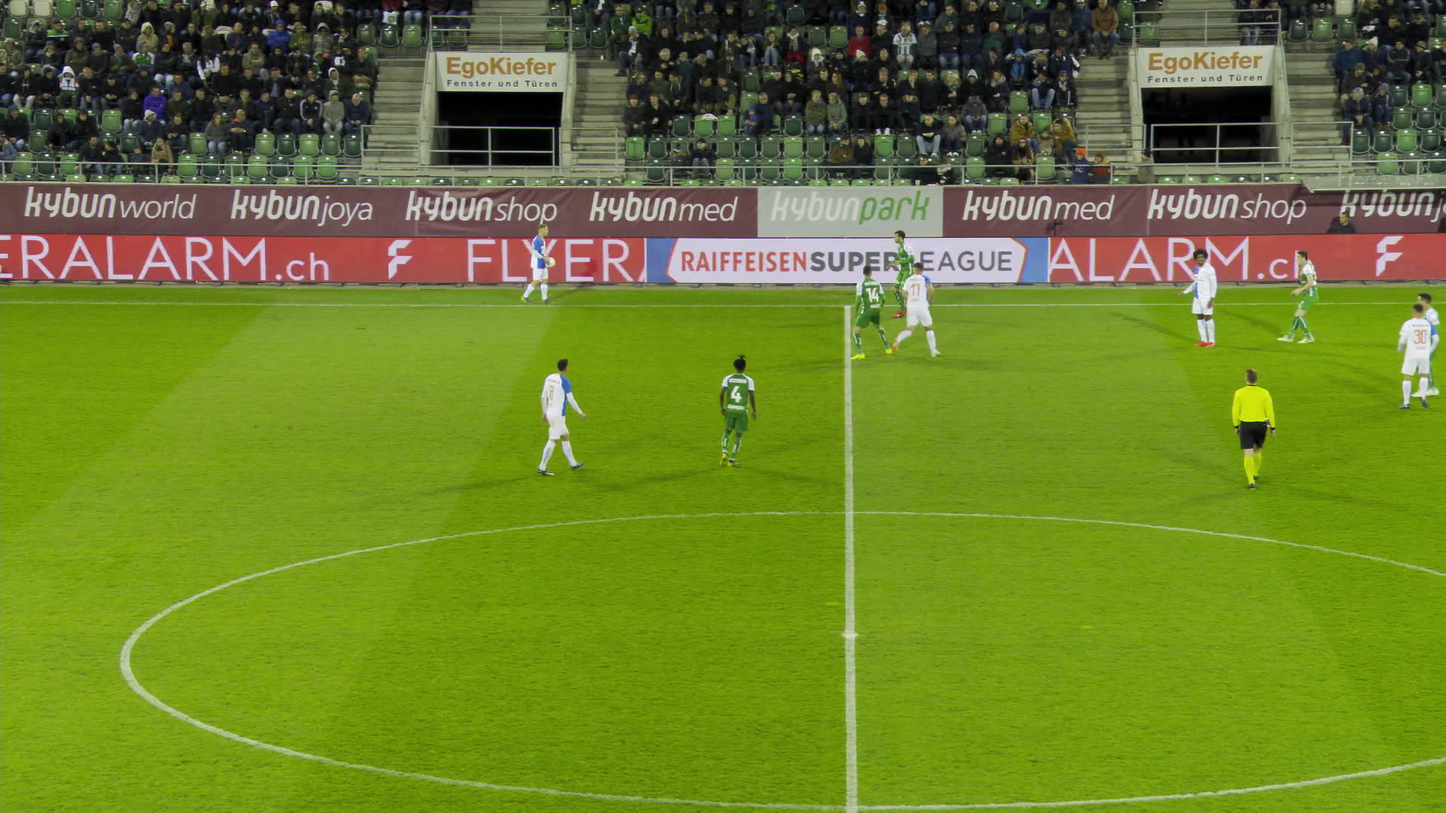ball: (547, 257, 557, 267)
player: (847, 262, 898, 357), (535, 355, 573, 477), (718, 358, 757, 469), (1393, 306, 1432, 409), (1178, 248, 1217, 349), (892, 263, 932, 359), (1288, 247, 1324, 338), (888, 234, 921, 318), (524, 225, 554, 304), (1421, 292, 1442, 398)
referee: (1231, 367, 1276, 486)
